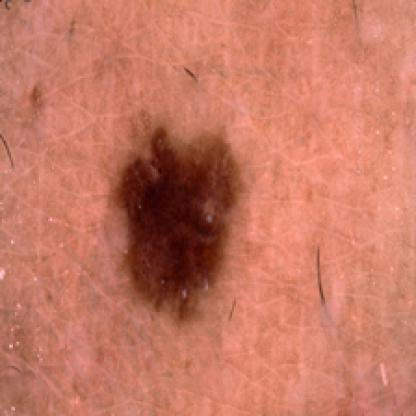malignant: (122, 119, 238, 304)
